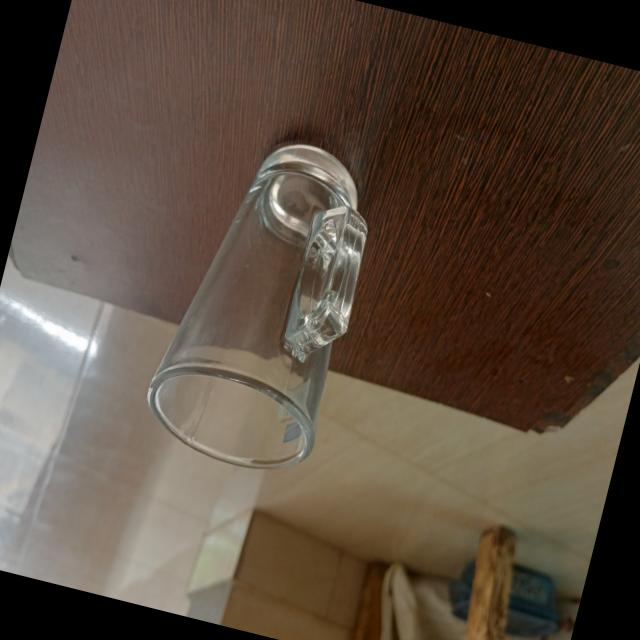glass-VX4N: (129, 103, 397, 495)
